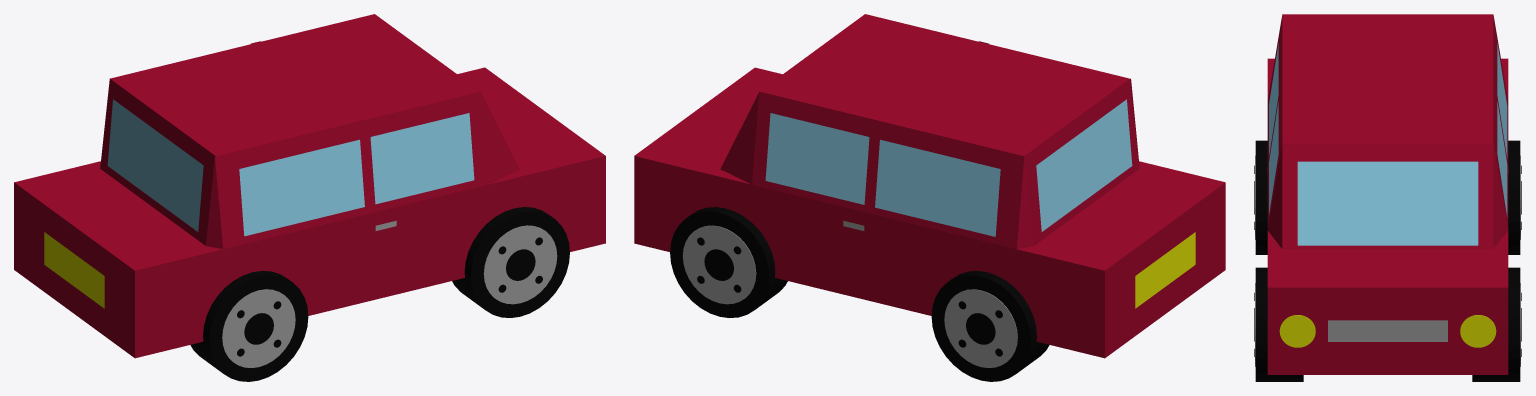
File: niet gebruiken, niet verwijderen.fbx
The picture shows the model from 3 angles, left to right: view 1: azimuth 30°, elevation 25°; view 2: azimuth 150°, elevation 25°; view 3: azimuth 270°, elevation 25°; orthographic projection.
Parts seen in each view (by area): view 1: Cube, Cube.001, Plane.002, Plane.003, Cylinder.002, Cylinder.004, Cylinder.009, Cylinder.010, Plane.009, Plane.007; view 2: Cube, Cube.001, Plane.001, Plane.003, Cylinder.003, Cylinder, Cylinder.008, Cylinder.012, Plane.009, Plane.004; view 3: Cube.001, Cube, Plane, Plane.008, Cylinder, Cylinder.002, Cylinder.003, Cylinder.004, Plane.001, Plane.002, Cylinder.006, Cylinder.007.
Boxes of the visible parts, left/top/right/bottom form: Cube: left=14, top=67, right=605, bottom=358; Cube.001: left=100, top=14, right=519, bottom=248; Plane.002: left=239, top=113, right=474, bottom=236; Plane.003: left=107, top=99, right=203, bottom=231; Cylinder.002: left=452, top=207, right=569, bottom=317; Cylinder.004: left=190, top=271, right=308, bottom=381; Cylinder.009: left=483, top=225, right=557, bottom=304; Cylinder.010: left=222, top=289, right=295, bottom=367; Plane.009: left=44, top=232, right=104, bottom=308; Plane.007: left=359, top=120, right=375, bottom=214; Cube: left=634, top=67, right=1225, bottom=358; Cube.001: left=720, top=14, right=1139, bottom=249; Plane.001: left=765, top=113, right=1000, bottom=236; Plane.003: left=1036, top=99, right=1132, bottom=231; Cylinder.003: left=931, top=271, right=1049, bottom=381; Cylinder: left=670, top=207, right=787, bottom=317; Cylinder.008: left=682, top=225, right=756, bottom=304; Cylinder.012: left=944, top=289, right=1017, bottom=367; Plane.009: left=1135, top=232, right=1195, bottom=308; Plane.004: left=864, top=120, right=880, bottom=214; Cube.001: left=1267, top=14, right=1508, bottom=249; Cube: left=1267, top=58, right=1508, bottom=374; Plane: left=1297, top=161, right=1478, bottom=245; Plane.008: left=1328, top=320, right=1447, bottom=341; Cylinder: left=1472, top=267, right=1520, bottom=381; Cylinder.002: left=1255, top=267, right=1303, bottom=381; Cylinder.003: left=1508, top=140, right=1520, bottom=254; Cylinder.004: left=1255, top=140, right=1267, bottom=254; Plane.001: left=1497, top=43, right=1507, bottom=216; Plane.002: left=1269, top=43, right=1278, bottom=214; Cylinder.006: left=1279, top=315, right=1315, bottom=347; Cylinder.007: left=1460, top=315, right=1496, bottom=347.
Size of the model in its own units: 901 by 405 by 444.
